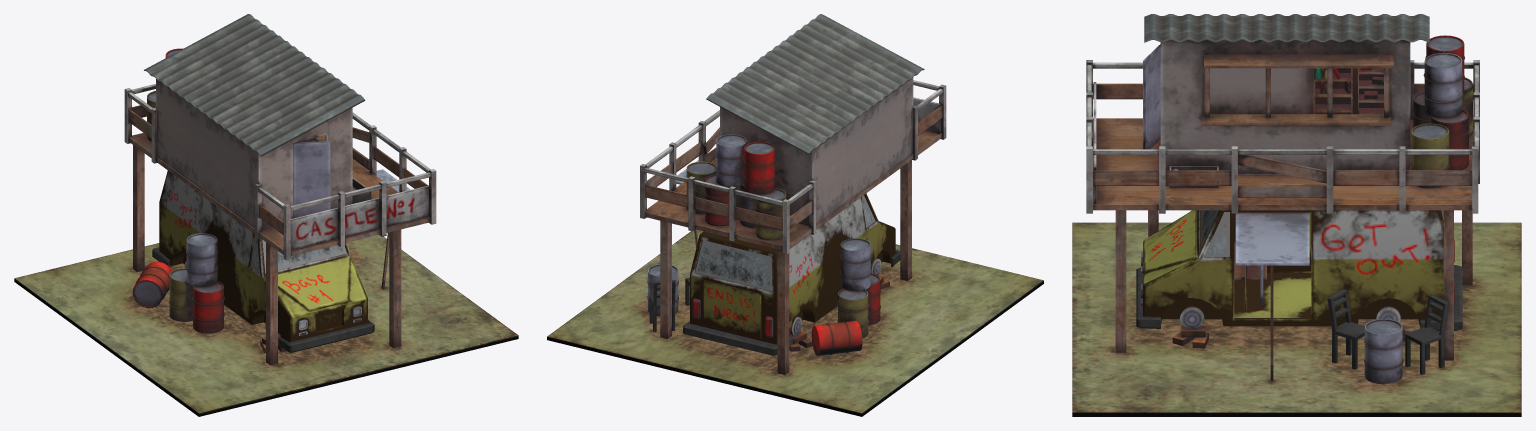
The model's file is car-house.glb.
3 renders of one model, left to right at view 1: azimuth 30°, elevation 25°; view 2: azimuth 150°, elevation 25°; view 3: azimuth 270°, elevation 25°, orthographic. The views are drawn at different scales.
Parts seen in each view (by area): view 1: pCube81, pCube129, pCube3, pCube45, pCube84, pCube15, pCube85, pCylinder18, pCube64, pCylinder16, pCube66, pCube67 (+4 smaller); view 2: pCube81, pCube129, pCube3, pCube45, pCube15, Object002_lambert5_0, pCube66, pCylinder8, pCylinder18, pCylinder19, pCylinder9, pCube65 (+12 smaller); view 3: pCube81, pCube3, pCube45, pCube15, pCube129, pCube82, pCube128, pCylinder10, pCylinder9, pCube121, pCube64, pCube85 (+29 smaller).
Part boxes in pixels (x1,y1,x2,y2): pCube81: (14, 235, 518, 416); pCube129: (144, 14, 365, 156); pCube3: (159, 170, 367, 342); pCube45: (156, 79, 352, 230); pCube84: (291, 185, 428, 250); pCube15: (129, 133, 430, 256); pCube85: (293, 141, 330, 218); pCylinder18: (186, 233, 218, 286); pCube64: (389, 229, 401, 348); pCylinder16: (192, 281, 224, 333); pCube66: (133, 145, 144, 272); pCube67: (266, 242, 277, 365); pCube81: (547, 230, 1043, 416); pCube129: (706, 14, 924, 154); pCube3: (690, 193, 895, 344); pCube45: (720, 77, 913, 226); pCube15: (645, 131, 941, 250); Object002_lambert5_0: (695, 240, 772, 291); pCube66: (777, 249, 789, 374); pCylinder8: (743, 141, 775, 194); pCylinder18: (840, 238, 871, 291); pCylinder19: (811, 320, 862, 355); pCylinder9: (715, 134, 746, 186); pCube65: (660, 221, 671, 339); pCube81: (1072, 222, 1521, 416); pCube3: (1143, 210, 1443, 326); pCube45: (1160, 40, 1410, 174); pCube15: (1093, 118, 1473, 210); pCube129: (1144, 14, 1429, 42); pCube82: (1235, 212, 1309, 265); pCube128: (1204, 55, 1393, 68); pCylinder10: (1364, 319, 1403, 384); pCylinder9: (1423, 52, 1463, 118); pCube121: (1201, 114, 1391, 125); pCube64: (1115, 210, 1126, 353); pCube85: (1143, 44, 1160, 149).
Bounding box in the file's own units: 2.35 × 1.75 × 2.35.
3 materials, 3 textured.
